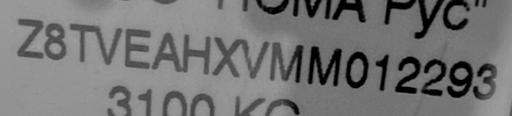letter: (267, 40, 305, 84), (306, 43, 344, 87), (150, 29, 182, 74), (210, 34, 242, 78), (122, 26, 152, 71), (181, 31, 211, 75), (15, 17, 45, 60), (241, 38, 271, 80), (418, 54, 448, 96), (94, 23, 122, 67), (67, 20, 95, 63), (392, 55, 422, 93), (446, 58, 474, 97), (471, 61, 499, 100), (42, 21, 68, 60), (344, 49, 370, 88), (374, 51, 392, 91)
